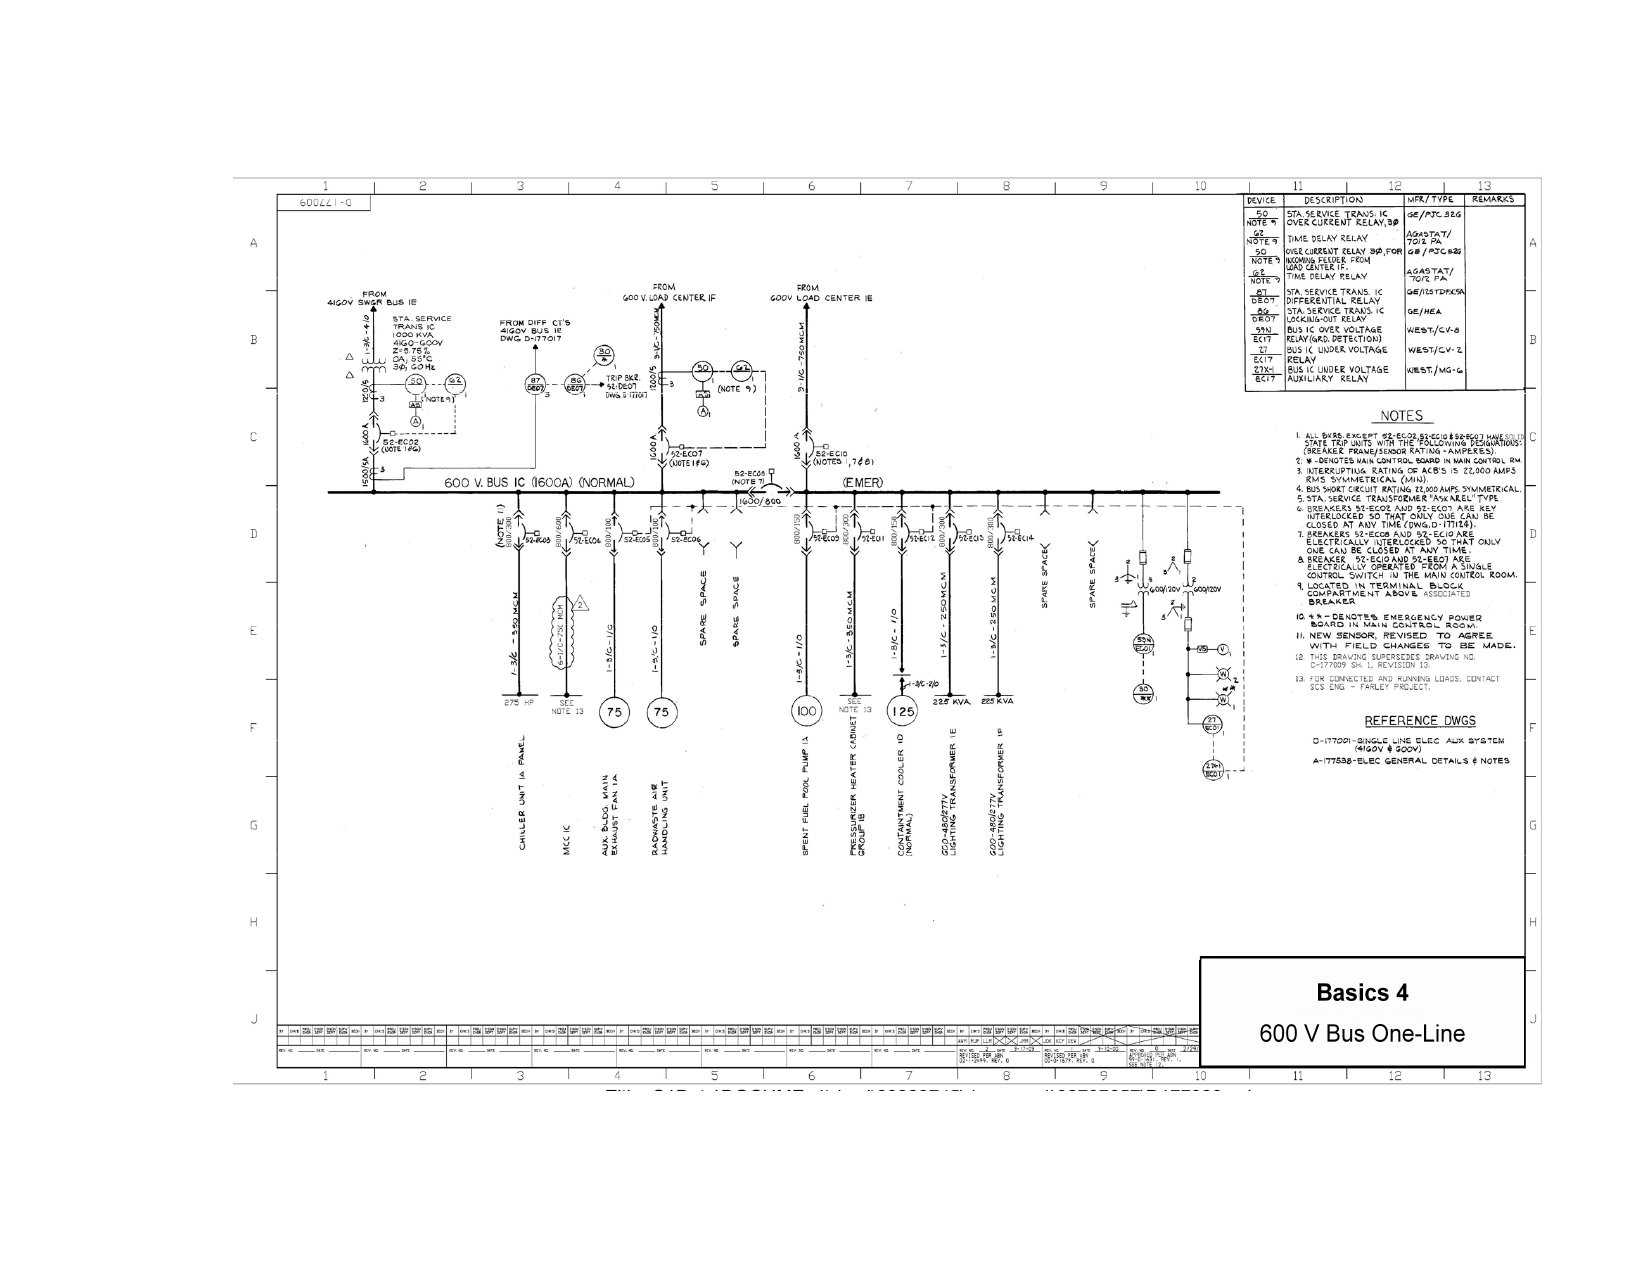fuse: (1132, 541, 1153, 568), (1177, 542, 1197, 568), (1177, 613, 1199, 636)
transformer: (355, 351, 391, 379)
